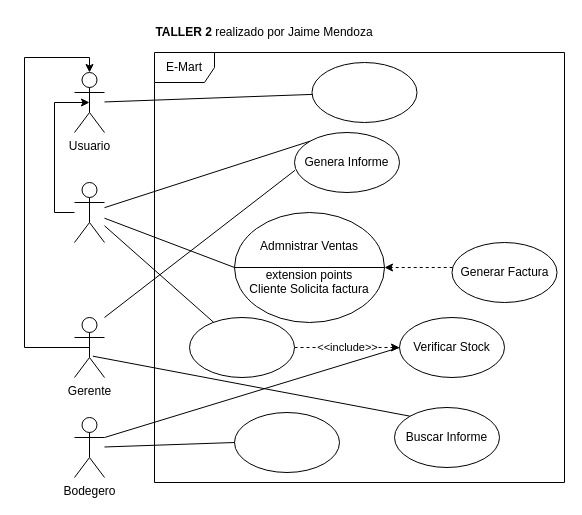
Image size: 582x515. Some labels were removed from this diagram. Here are the shapes that lost their labels. From the top down, the box of each, then its label:
(311, 62, 417, 122): Iniciar sesion
(74, 182, 104, 242): Vendedor
(188, 316, 294, 378): Vender Productos
(234, 412, 340, 472): <<CRUD>> Gestiona productos
